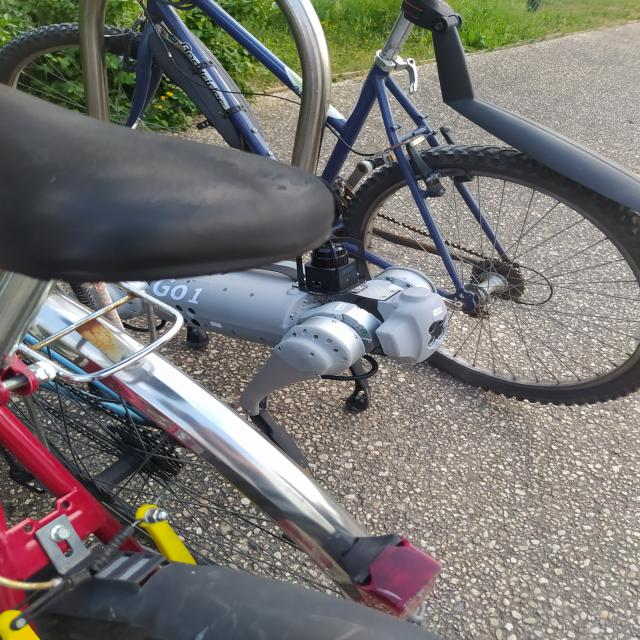unitree-go1-robot: (73, 230, 464, 471)
